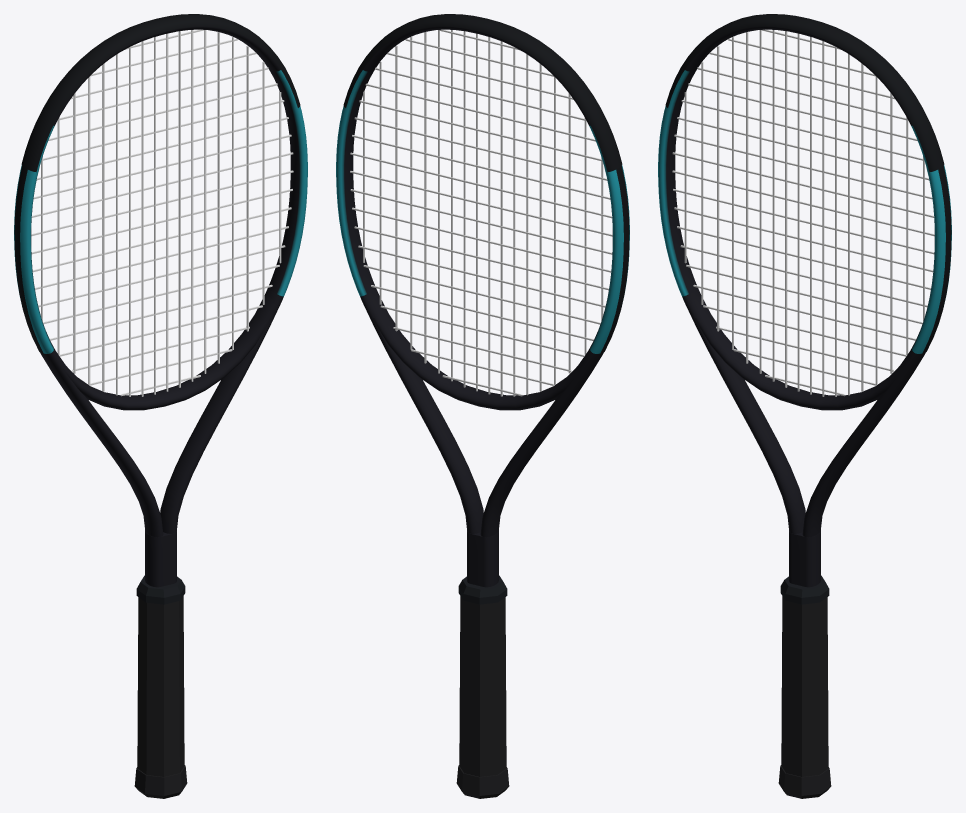
File: head-gravity-pro-2025.glb
3 views of the same model, side by side, from view 1: azimuth 30°, elevation 25°; view 2: azimuth 150°, elevation 25°; view 3: azimuth 330°, elevation 25° (orthographic).
Visible parts, largest first — view 1: frame, strings_mains, strings_crosses, grip, bumper, butt_cap, grommets, collar; view 2: frame, strings_mains, strings_crosses, grip, bumper, butt_cap, grommets, collar; view 3: frame, strings_mains, strings_crosses, grip, bumper, butt_cap, grommets, collar.
Boxes of the visible parts, box(x1,y1,x2,y2) form: frame: box(14, 26, 307, 587); strings_mains: box(41, 30, 281, 396); strings_crosses: box(31, 29, 293, 396); grip: box(137, 596, 184, 776); bumper: box(21, 14, 300, 172); butt_cap: box(134, 765, 187, 798); grommets: box(14, 166, 44, 355); collar: box(136, 575, 185, 604); frame: box(336, 26, 629, 587); strings_mains: box(363, 30, 603, 396); strings_crosses: box(350, 29, 612, 396); grip: box(459, 596, 506, 776); bumper: box(343, 14, 622, 172); butt_cap: box(456, 765, 509, 798); grommets: box(599, 166, 629, 355); collar: box(458, 575, 507, 604); frame: box(658, 26, 951, 587); strings_mains: box(684, 30, 924, 396); strings_crosses: box(672, 29, 934, 396); grip: box(781, 596, 828, 776); bumper: box(665, 14, 944, 172); butt_cap: box(778, 765, 831, 798); grommets: box(921, 166, 951, 355); collar: box(780, 575, 829, 604).
Size of the model in its own units: 0.2696 by 0.6861 by 0.0396.
